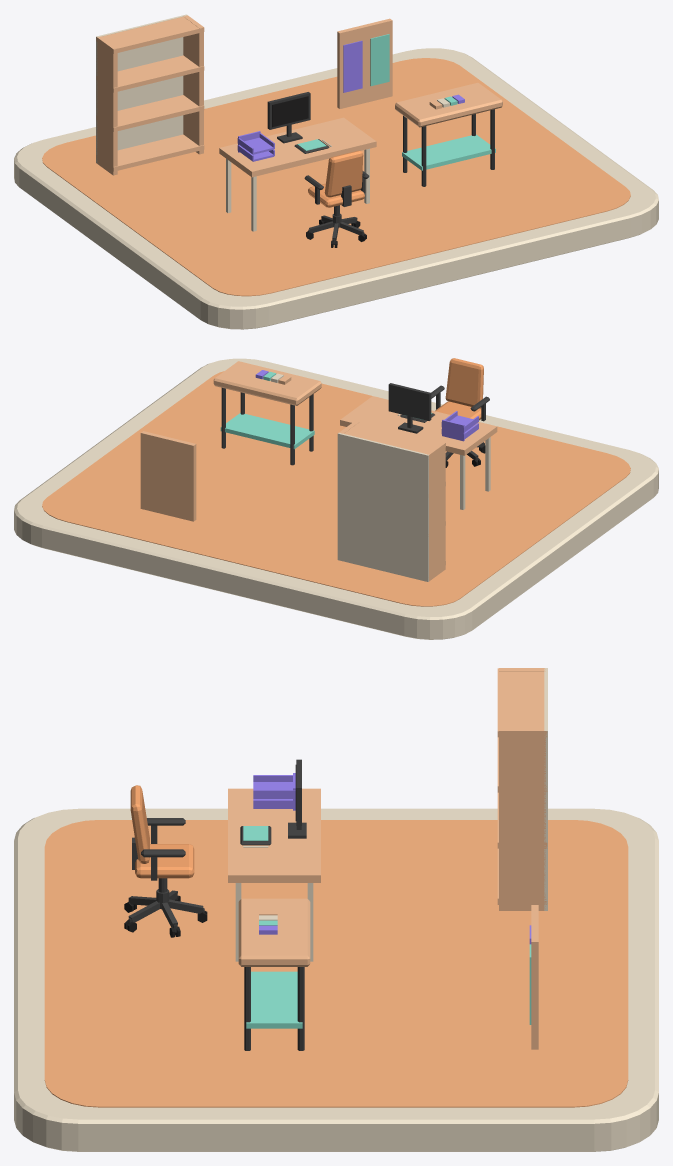
The picture shows the model from 3 angles, top to bottom: view 1: azimuth 30°, elevation 25°; view 2: azimuth 150°, elevation 25°; view 3: azimuth 270°, elevation 25°; orthographic projection. The views are drawn at different scales.
Parts seen in each view (by area): view 1: COM-02 Floor Surface, COM-01 Rounded Base Direct, Top, Back, COM-04_Chair_blender_direct, Design board, Side, Worktop, Side.001, Shelf.003, Lower shelf, Shelf (+5 smaller); view 2: COM-02 Floor Surface, COM-01 Rounded Base Direct, Back, Design board, Top, COM-04_Chair_blender_direct, Worktop, Side, Lower shelf, Frame, Shelf.003; view 3: COM-02 Floor Surface, COM-01 Rounded Base Direct, Side.001, Top, COM-04_Chair_blender_direct, Worktop, Shelf.003, Lower shelf, Design board, Back, Frame.
Boxes of the visible parts, x1,y1,x2,y2 form: COM-02 Floor Surface: (42, 58, 630, 296); COM-01 Rounded Base Direct: (14, 48, 658, 329); Top: (219, 117, 376, 231); Back: (96, 14, 187, 163); COM-04_Chair_blender_direct: (304, 150, 369, 247); Design board: (337, 18, 392, 108); Side: (96, 36, 117, 175); Worktop: (395, 82, 502, 127); Side.001: (183, 15, 203, 154); Shelf.003: (96, 16, 204, 53); Lower shelf: (402, 134, 495, 170); Shelf: (96, 134, 204, 171); COM-02 Floor Surface: (42, 371, 630, 606); COM-01 Rounded Base Direct: (14, 358, 658, 639); Back: (337, 432, 428, 581); Design board: (140, 431, 196, 521); Top: (340, 396, 497, 509); COM-04_Chair_blender_direct: (431, 358, 489, 467); Worktop: (213, 361, 321, 405); Side: (425, 442, 445, 581); Lower shelf: (220, 413, 314, 449); Frame: (388, 383, 431, 433); Shelf.003: (344, 421, 445, 459); COM-02 Floor Surface: (44, 820, 628, 1107); COM-01 Rounded Base Direct: (14, 808, 658, 1151); Side.001: (499, 728, 545, 910); Top: (228, 788, 320, 961); COM-04_Chair_blender_direct: (124, 785, 207, 937); Worktop: (238, 898, 310, 966); Shelf.003: (497, 668, 547, 737); Lower shelf: (246, 971, 302, 1028); Design board: (531, 905, 538, 1049); Back: (544, 668, 547, 910); Frame: (288, 759, 306, 838).
Size of the model in its own units: 6 by 1.9 by 5.2.
1 material, 1 textured.
